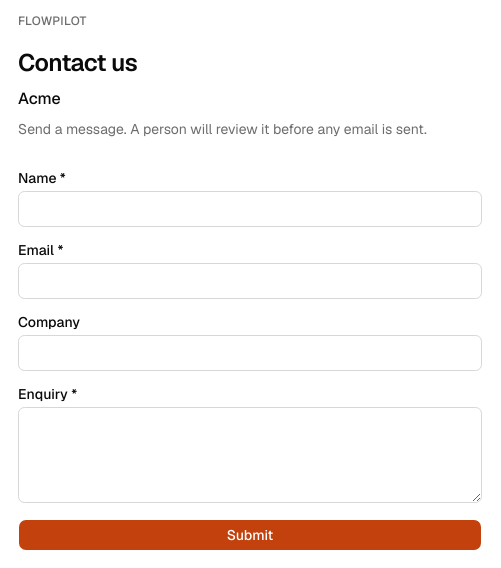
it: hosted website enquiry capture › submits and shows a success state
This screenshot has width=501, height=568.
Check: the heading "Contact us" is shown, box [18,47,137,78]
Type "Ada Prospect" into the field labelled "Name *" at [250, 209], box [18,191,482,227]
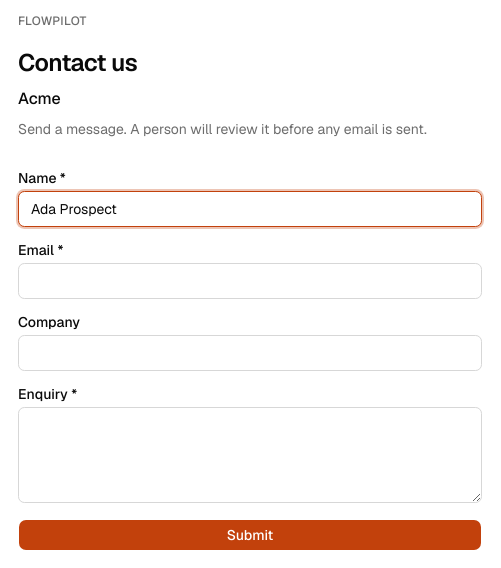
Type "ada@example.com" into the field labelled "Email *" at [250, 281], box [18,263,482,299]
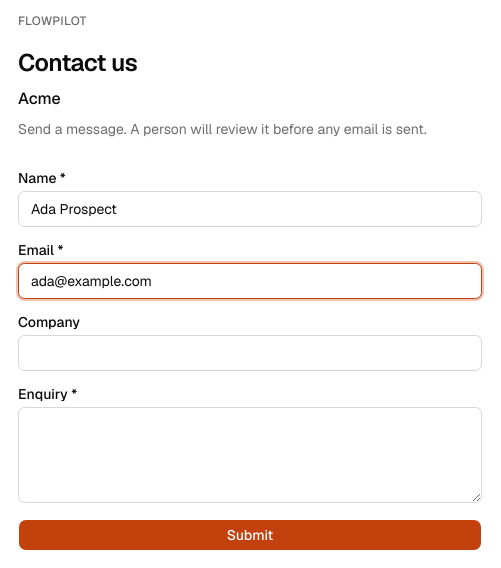
Type "Northstar" into the field labelled "Company" at [250, 353], box [18,335,482,371]
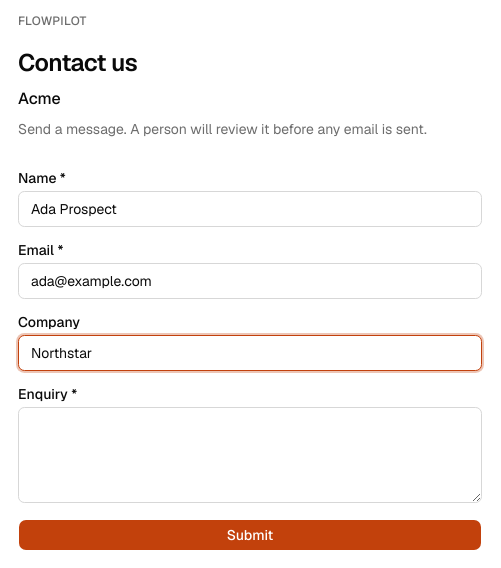
Type "Need a demo next week" into the text box labelled "Enquiry *" at [250, 455], box [18,407,482,503]
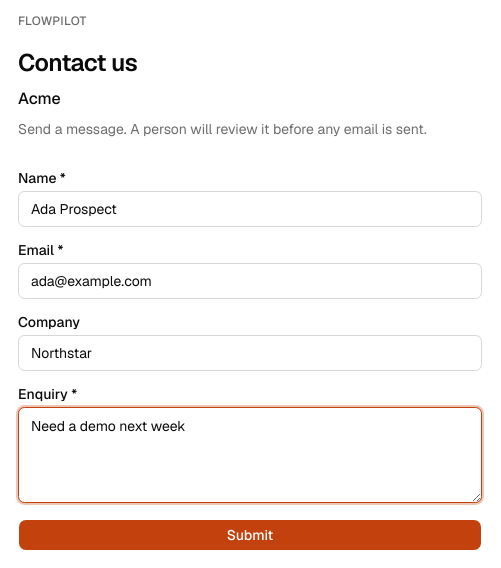
Click the button "Submit" at [250, 535], box [18,519,482,551]
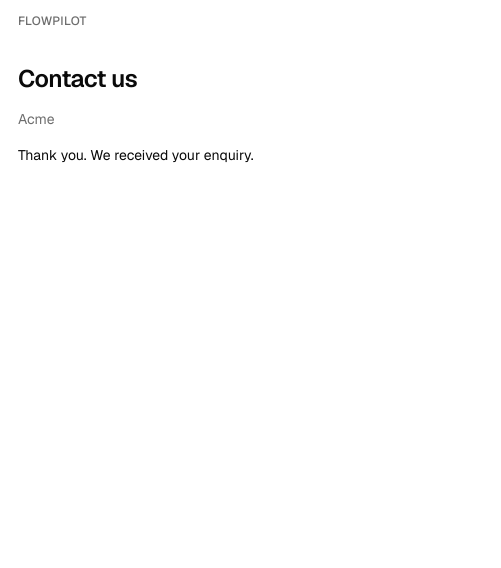
Check: the text "Thank you. We received your enquiry." is shown, box [18,146,254,164]
Check: the button "Submit" is gone
